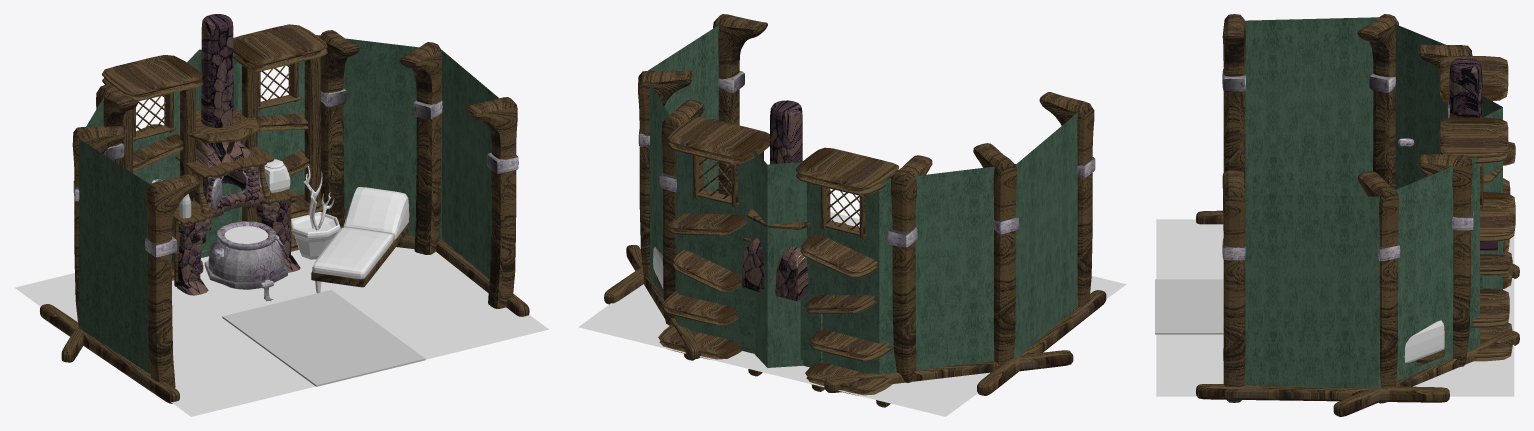
Rendered from Scene_witch.fbx.
3 renders of one model, left to right at view 1: azimuth 30°, elevation 25°; view 2: azimuth 150°, elevation 25°; view 3: azimuth 270°, elevation 25°, orthographic. The views are drawn at different scales.
Parts seen in each view (by area): view 1: Plane.003, Plane.002, Cube.061, Plane.001, Cube.055, Cube.034, Furnace_Top, Cube.030, Furnace_bottom, Cube.058, Cube.008, Cube (+21 smaller); view 2: Plane.003, Cube.055, Plane.002, Cube.030, Cube.061, Cube.034, Furnace_Top, Cube.057, Cube.058, Cube.011, Cube.026, Cube.022 (+12 smaller); view 3: Plane.003, Plane.002, Cube.061, Cube.055, Cube.030, Cube.034, Plane.001, Cube.058, Cube.057, Furnace_Top, Cube.004, Cube.006 (+6 smaller).
Boxes of the visible parts, <box> form: Plane.003: <box>79,35,498,373</box>; Plane.002: <box>15,247,548,416</box>; Cube.061: <box>146,97,517,387</box>; Plane.001: <box>222,290,425,386</box>; Cube.055: <box>72,42,441,325</box>; Cube.034: <box>102,24,327,101</box>; Furnace_Top: <box>194,14,259,203</box>; Cube.030: <box>96,30,359,228</box>; Furnace_bottom: <box>176,191,300,295</box>; Cube.058: <box>40,239,529,403</box>; Cube.008: <box>242,57,320,222</box>; Cube: <box>208,221,284,289</box>; Plane.003: <box>648,25,1077,374</box>; Cube.055: <box>638,70,1017,364</box>; Plane.002: <box>578,212,1126,416</box>; Cube.030: <box>661,99,932,382</box>; Cube.061: <box>713,14,1094,306</box>; Cube.034: <box>667,116,898,194</box>; Furnace_Top: <box>742,100,807,301</box>; Cube.057: <box>626,245,1073,392</box>; Cube.058: <box>604,267,1106,395</box>; Cube.011: <box>735,275,822,367</box>; Cube.026: <box>800,233,877,277</box>; Cube.022: <box>809,329,891,361</box>; Plane.003: <box>1244,17,1502,388</box>; Plane.002: <box>1156,219,1514,396</box>; Cube.061: <box>1222,14,1245,402</box>; Cube.055: <box>1357,14,1399,403</box>; Cube.030: <box>1418,44,1472,366</box>; Cube.034: <box>1439,55,1508,163</box>; Plane.001: <box>1155,279,1223,334</box>; Cube.058: <box>1196,210,1449,402</box>; Cube.057: <box>1333,262,1519,416</box>; Furnace_Top: <box>1449,57,1497,250</box>; Cube.004: <box>1480,192,1515,241</box>; Cube.006: <box>1471,288,1509,327</box>.
Size of the model in its own units: 1744 by 1042 by 1252.
